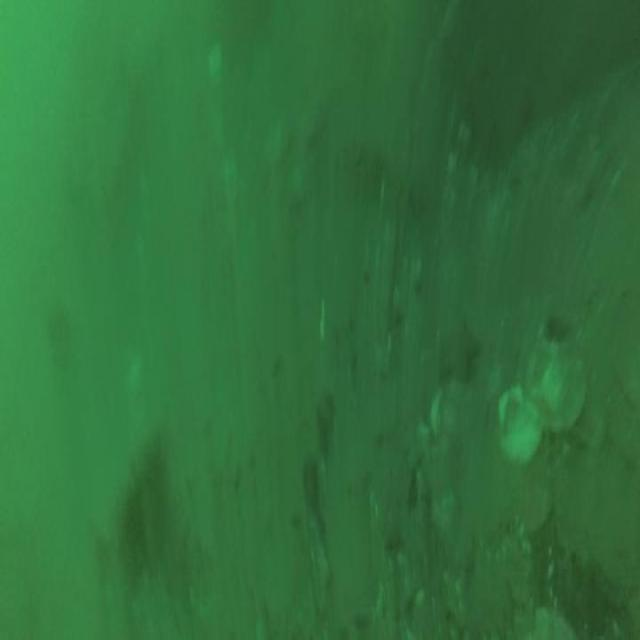scallop: (518, 310, 588, 433), (497, 381, 540, 471)
